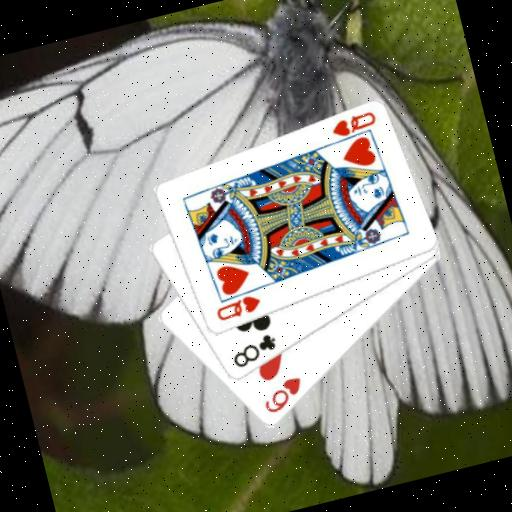6H: (256, 373, 309, 417)
8C: (226, 329, 283, 372)
QH: (322, 107, 382, 148), (211, 291, 265, 325)
